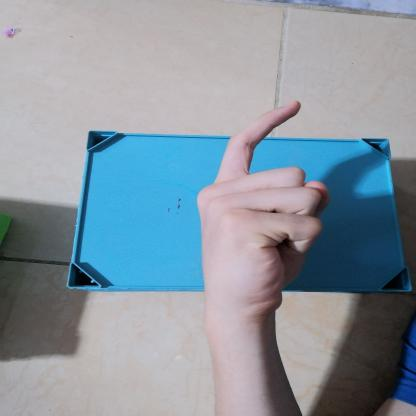RAA: (183, 93, 340, 325)
